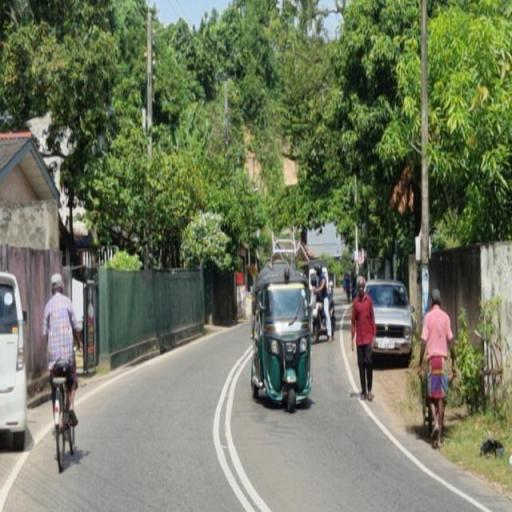double_white_line: (212, 344, 265, 512)
